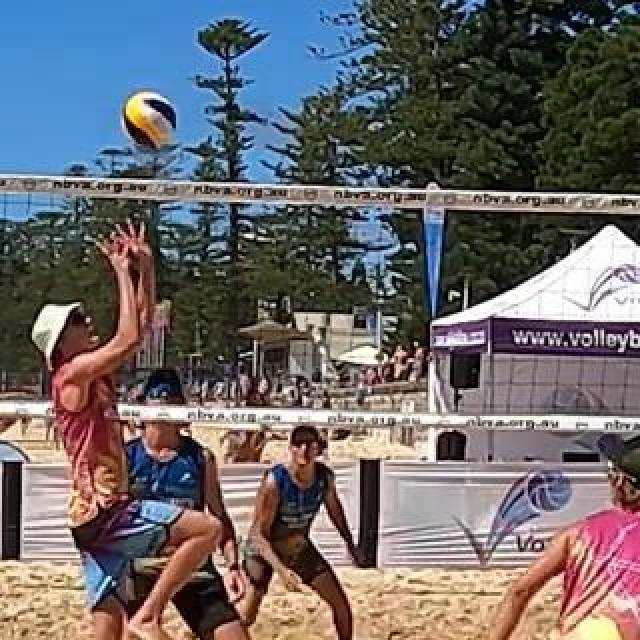volleyball: (122, 92, 176, 146)
